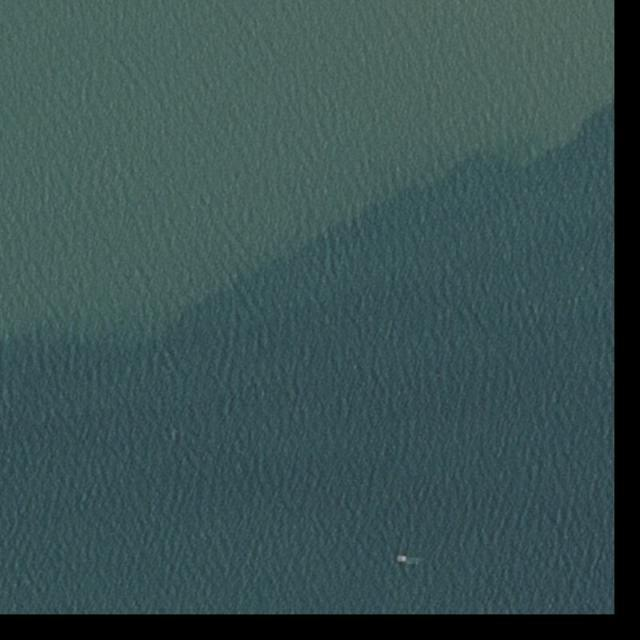ship: (394, 554, 407, 563)
